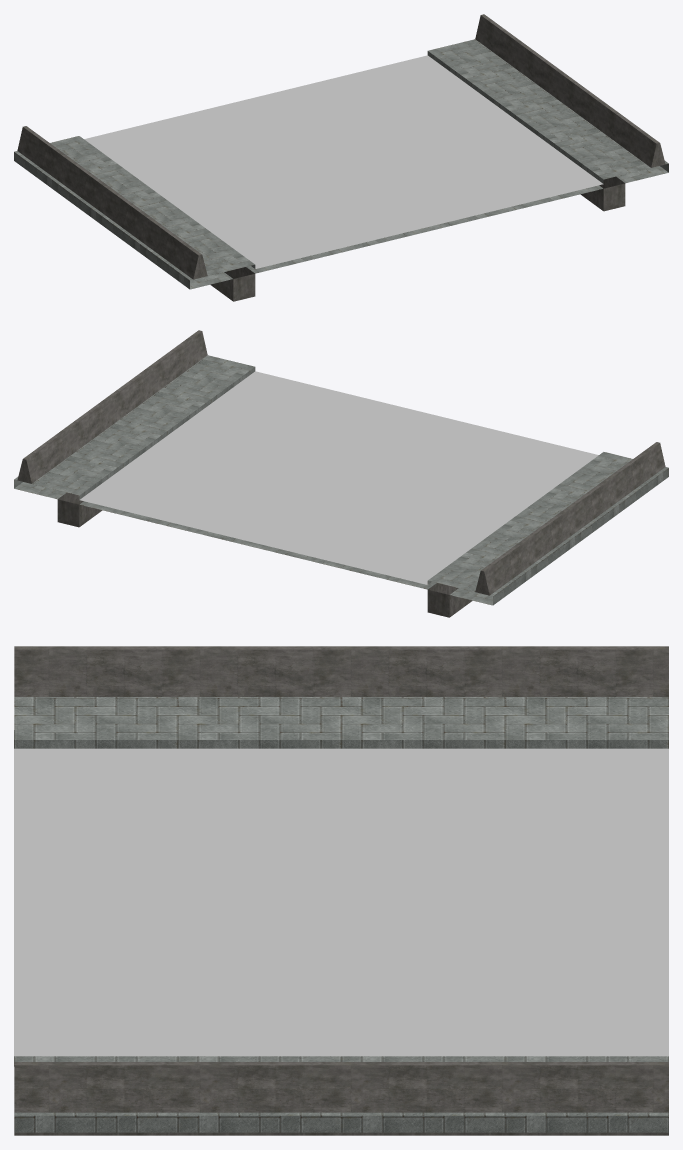
File: Straight 4 Lane Bridge.fbx
3 views of the same model, one above another, from view 1: azimuth 30°, elevation 25°; view 2: azimuth 150°, elevation 25°; view 3: azimuth 270°, elevation 25° (orthographic). The views are drawn at different scales.
Visible parts, largest first — view 1: Plane; view 2: Plane; view 3: Plane.
Boxes of the visible parts, bbox=[...] form: Plane: bbox=[14, 14, 668, 301]; Plane: bbox=[14, 330, 668, 617]; Plane: bbox=[14, 646, 668, 1135].
Bounding box in the file's own units: 2200 × 240 × 1400.
